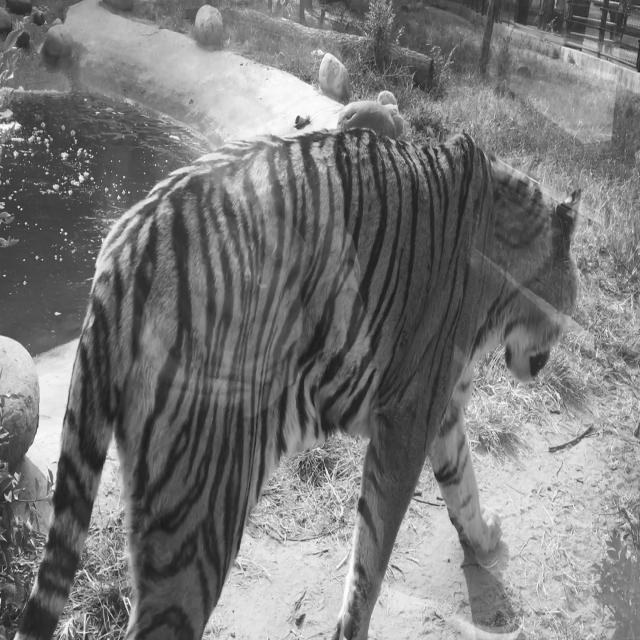Tiger: (13, 126, 583, 638)
